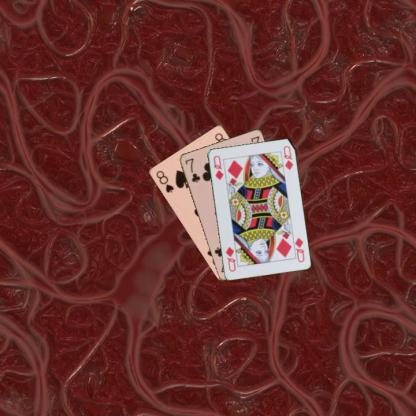7c: (183, 155, 201, 184)
8s: (153, 168, 175, 194)
Qd: (289, 234, 306, 263), (211, 152, 225, 181)
